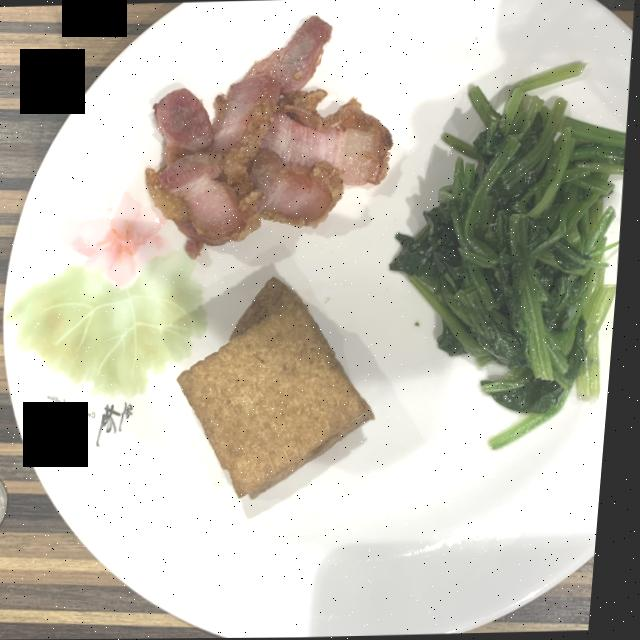coin: (0, 474, 15, 532)
egg tofu: (183, 277, 380, 497)
mustard greens: (395, 62, 628, 449)
red grilled pork: (148, 15, 394, 257)
